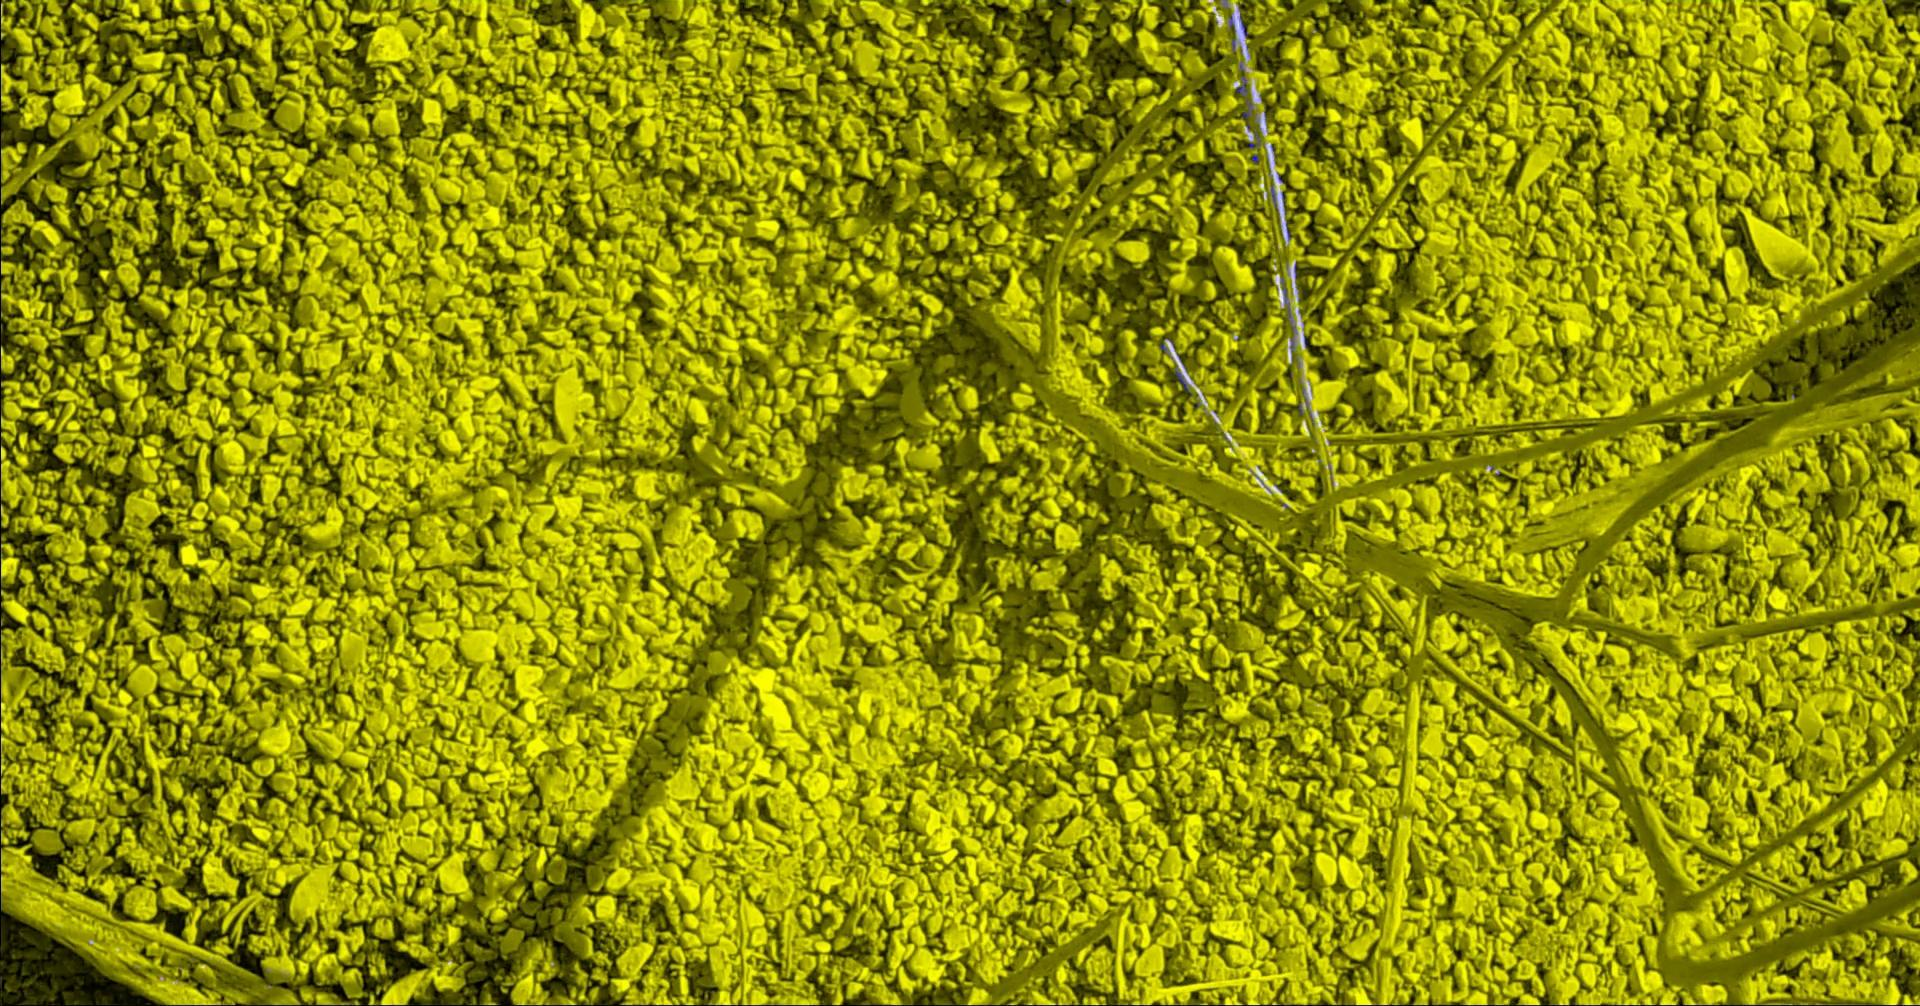ant: (1236, 75, 1252, 118), (1173, 366, 1189, 389), (1248, 130, 1258, 149)
